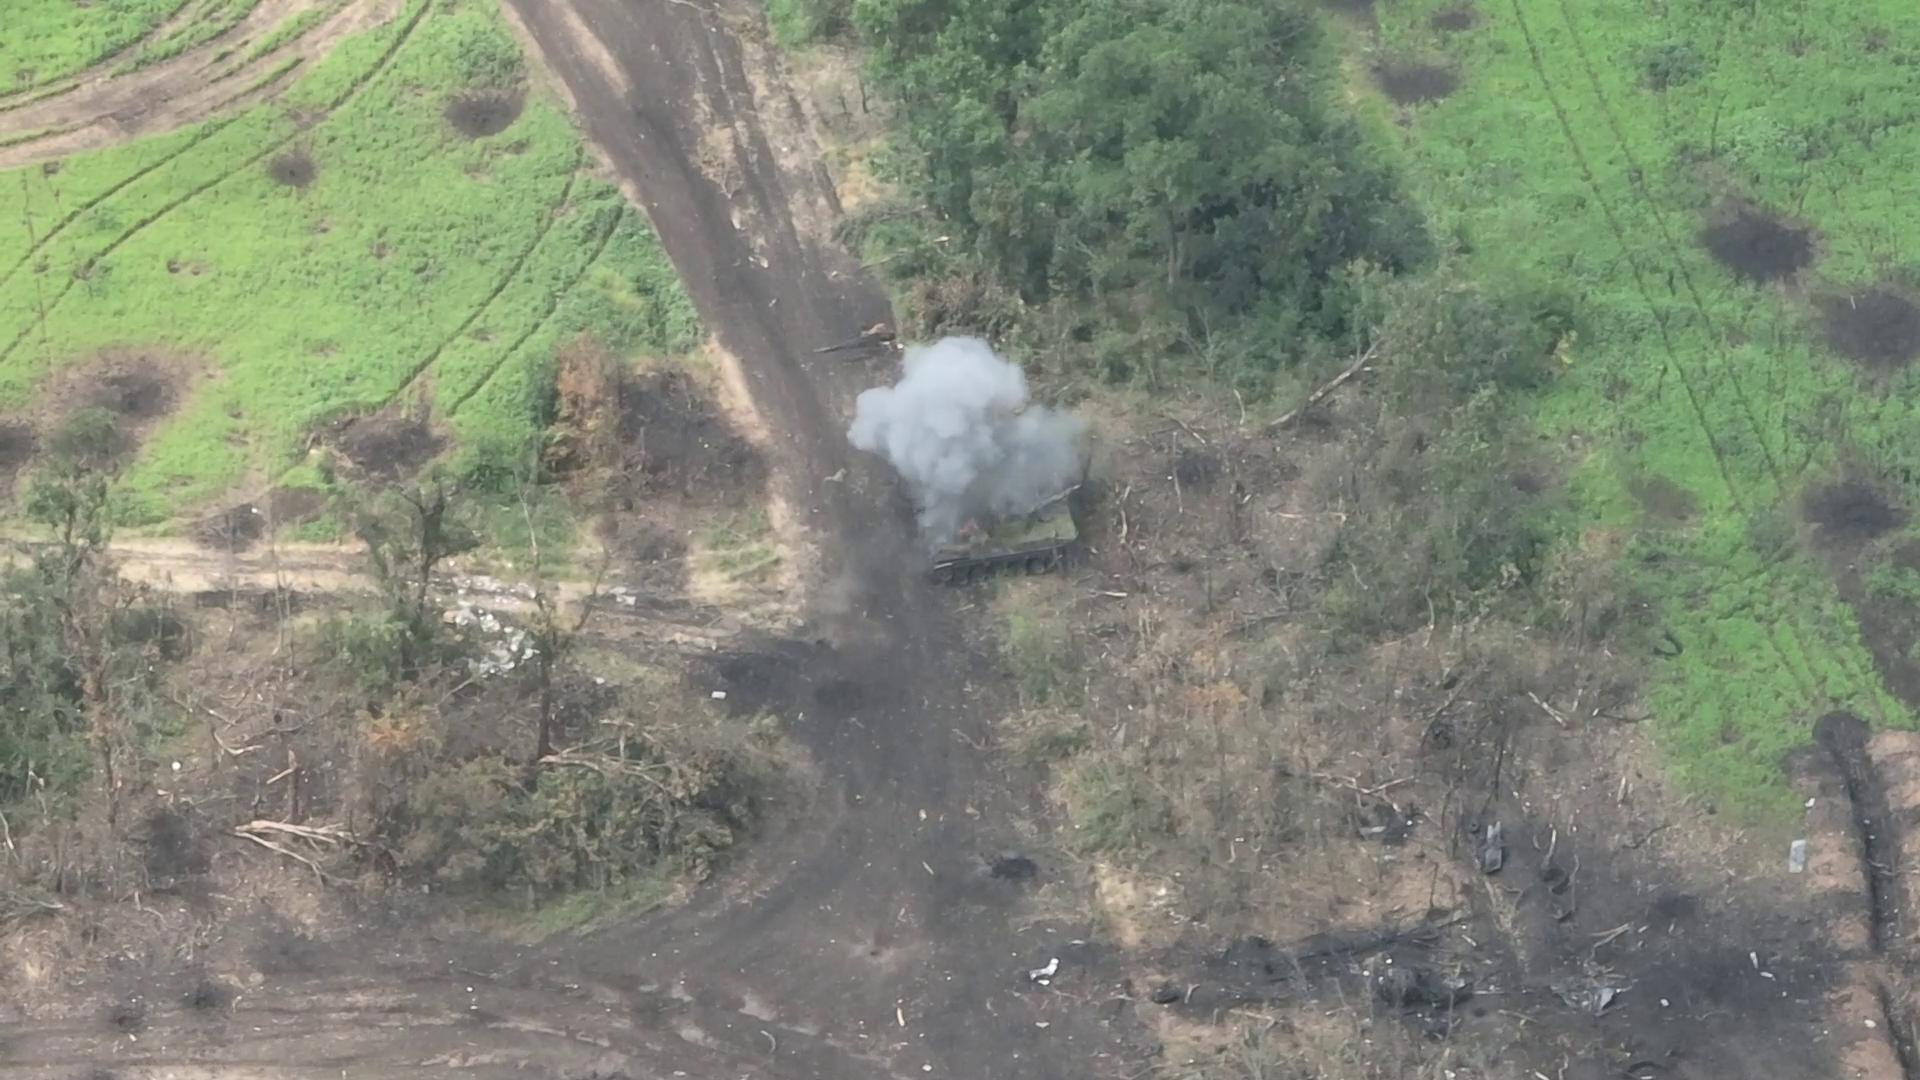tank: (924, 477, 1083, 589)
